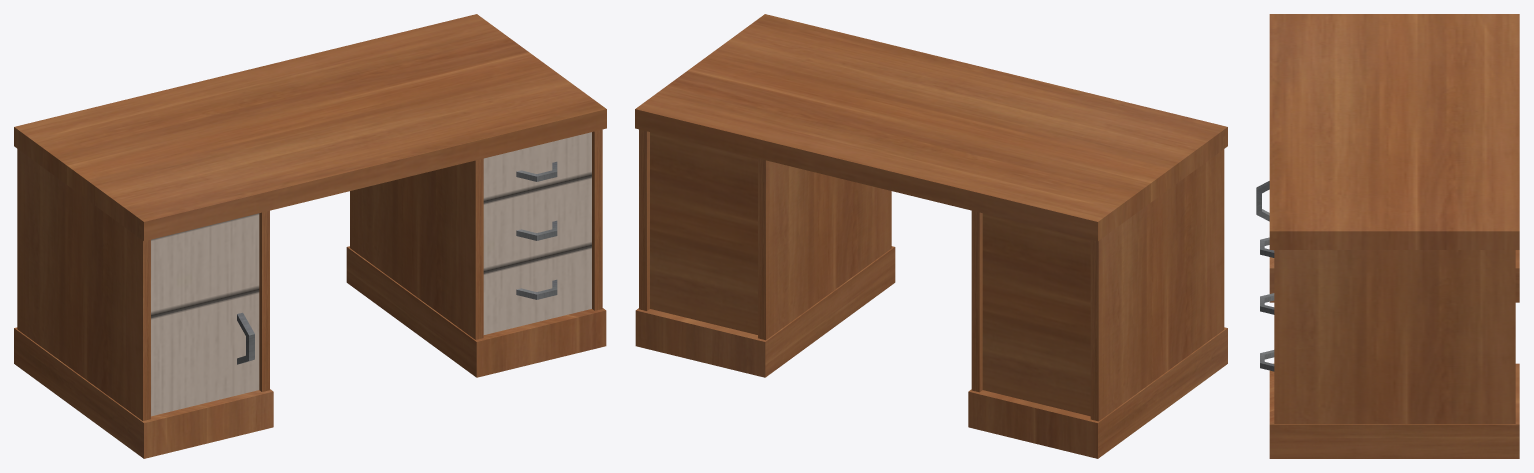
File: Desk_1A.fbx
3 renders of one model, left to right at view 1: azimuth 30°, elevation 25°; view 2: azimuth 150°, elevation 25°; view 3: azimuth 270°, elevation 25°, orthographic. The views are drawn at different scales.
Parts seen in each view (by area): view 1: polySurface1504; view 2: polySurface1504; view 3: polySurface1504.
Boxes of the visible parts, x1,y1,x2,y2 form: polySurface1504: (14,14,606,458); polySurface1504: (635,14,1227,458); polySurface1504: (1256,14,1519,458).
Bounding box in the file's own units: 2.05 × 1 × 1.05.
